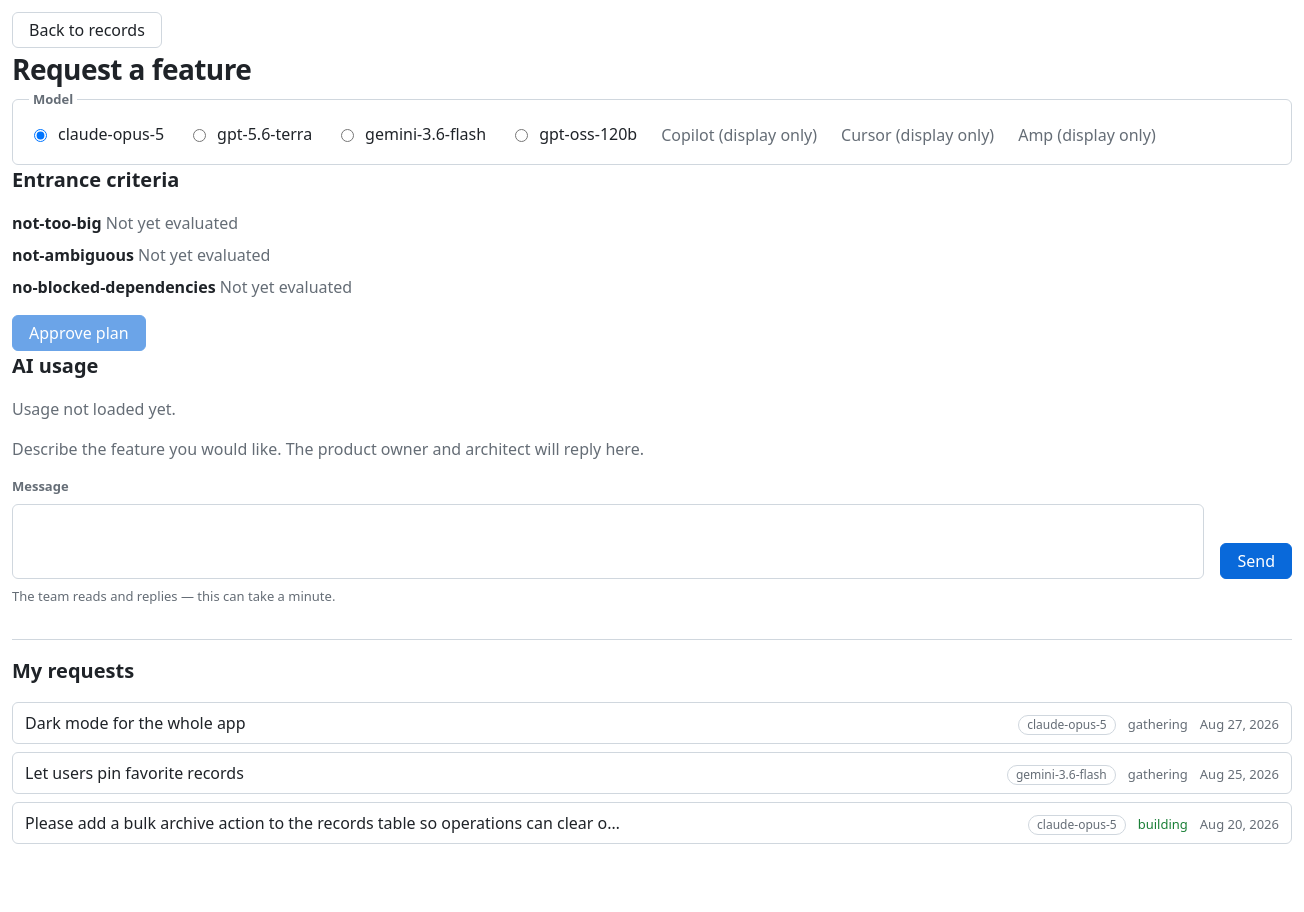
Test case: DAN-74 tester — reopening a gathering session › shows the FULL transcript on the first render after the click — no typewriter replay
Click the button "Let users pin favorite records gathering Aug 25, 2026". click: (134, 772)
box: x1=12 y1=752 x2=1292 y2=794
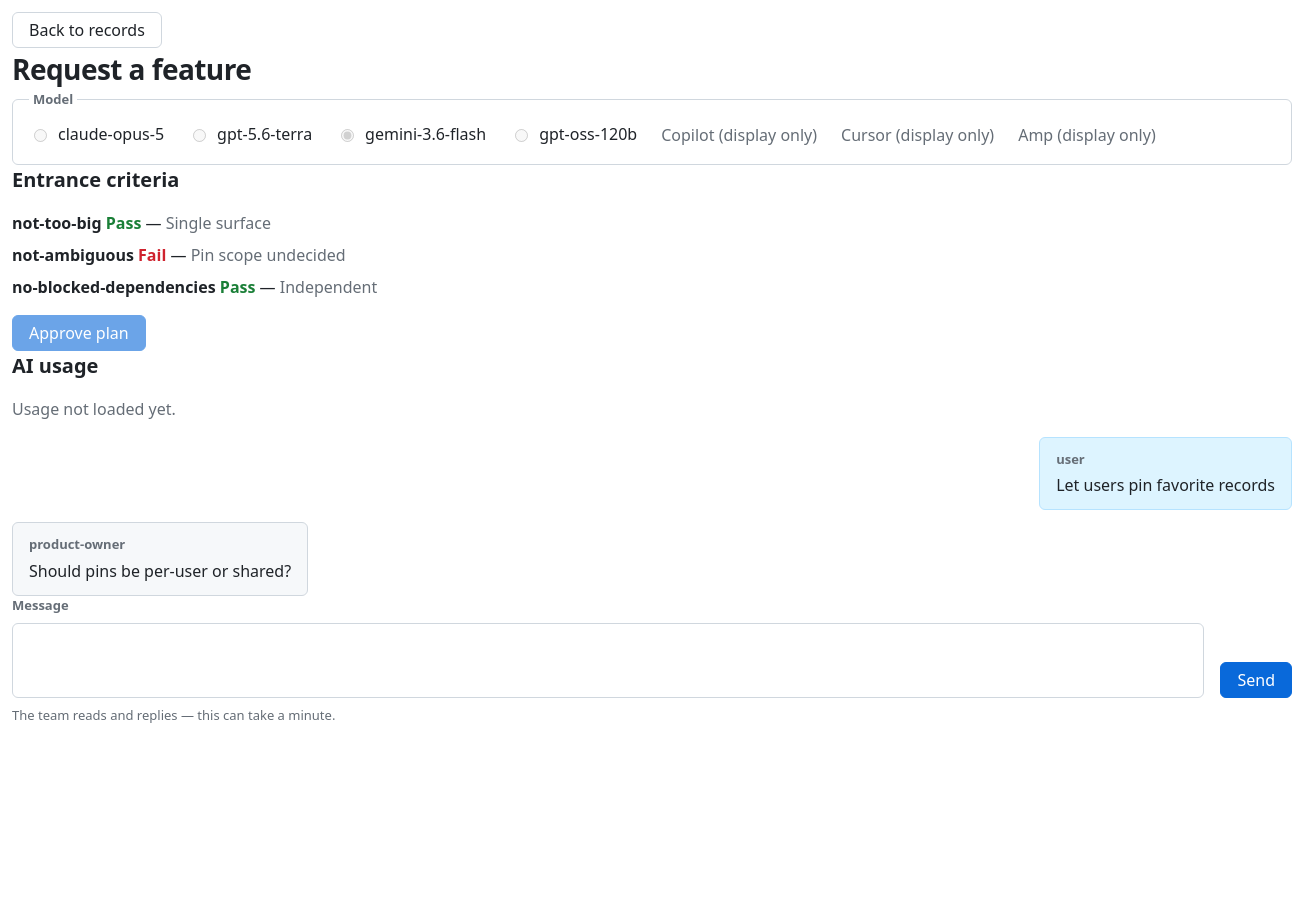
Expected: the text "Let users pin favorite records" is shown, x1=1056 y1=473 x2=1275 y2=497
Expected: the text "Should pins be per-user or shared?" is shown, x1=29 y1=558 x2=291 y2=582
